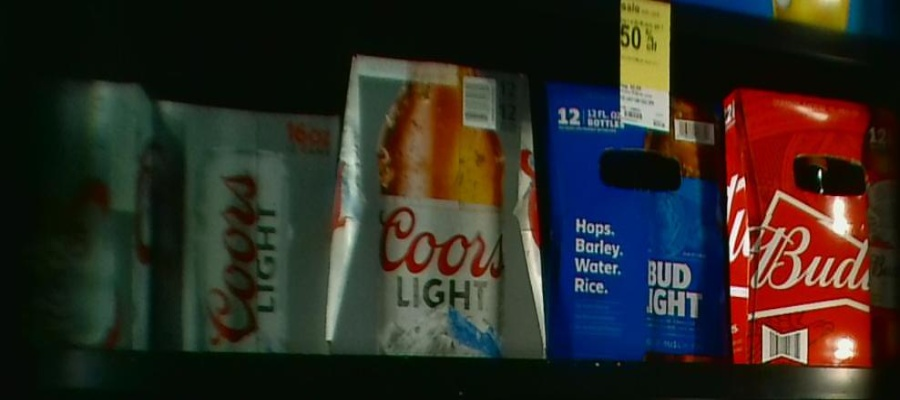bottle: (342, 55, 544, 357), (542, 78, 729, 363), (155, 92, 343, 356), (729, 85, 900, 366), (1, 85, 151, 348)
